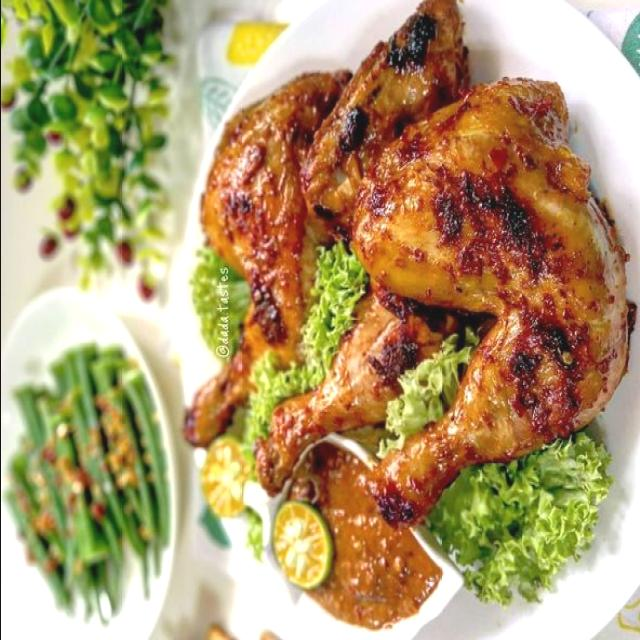ayam bakar: (336, 76, 634, 529)
